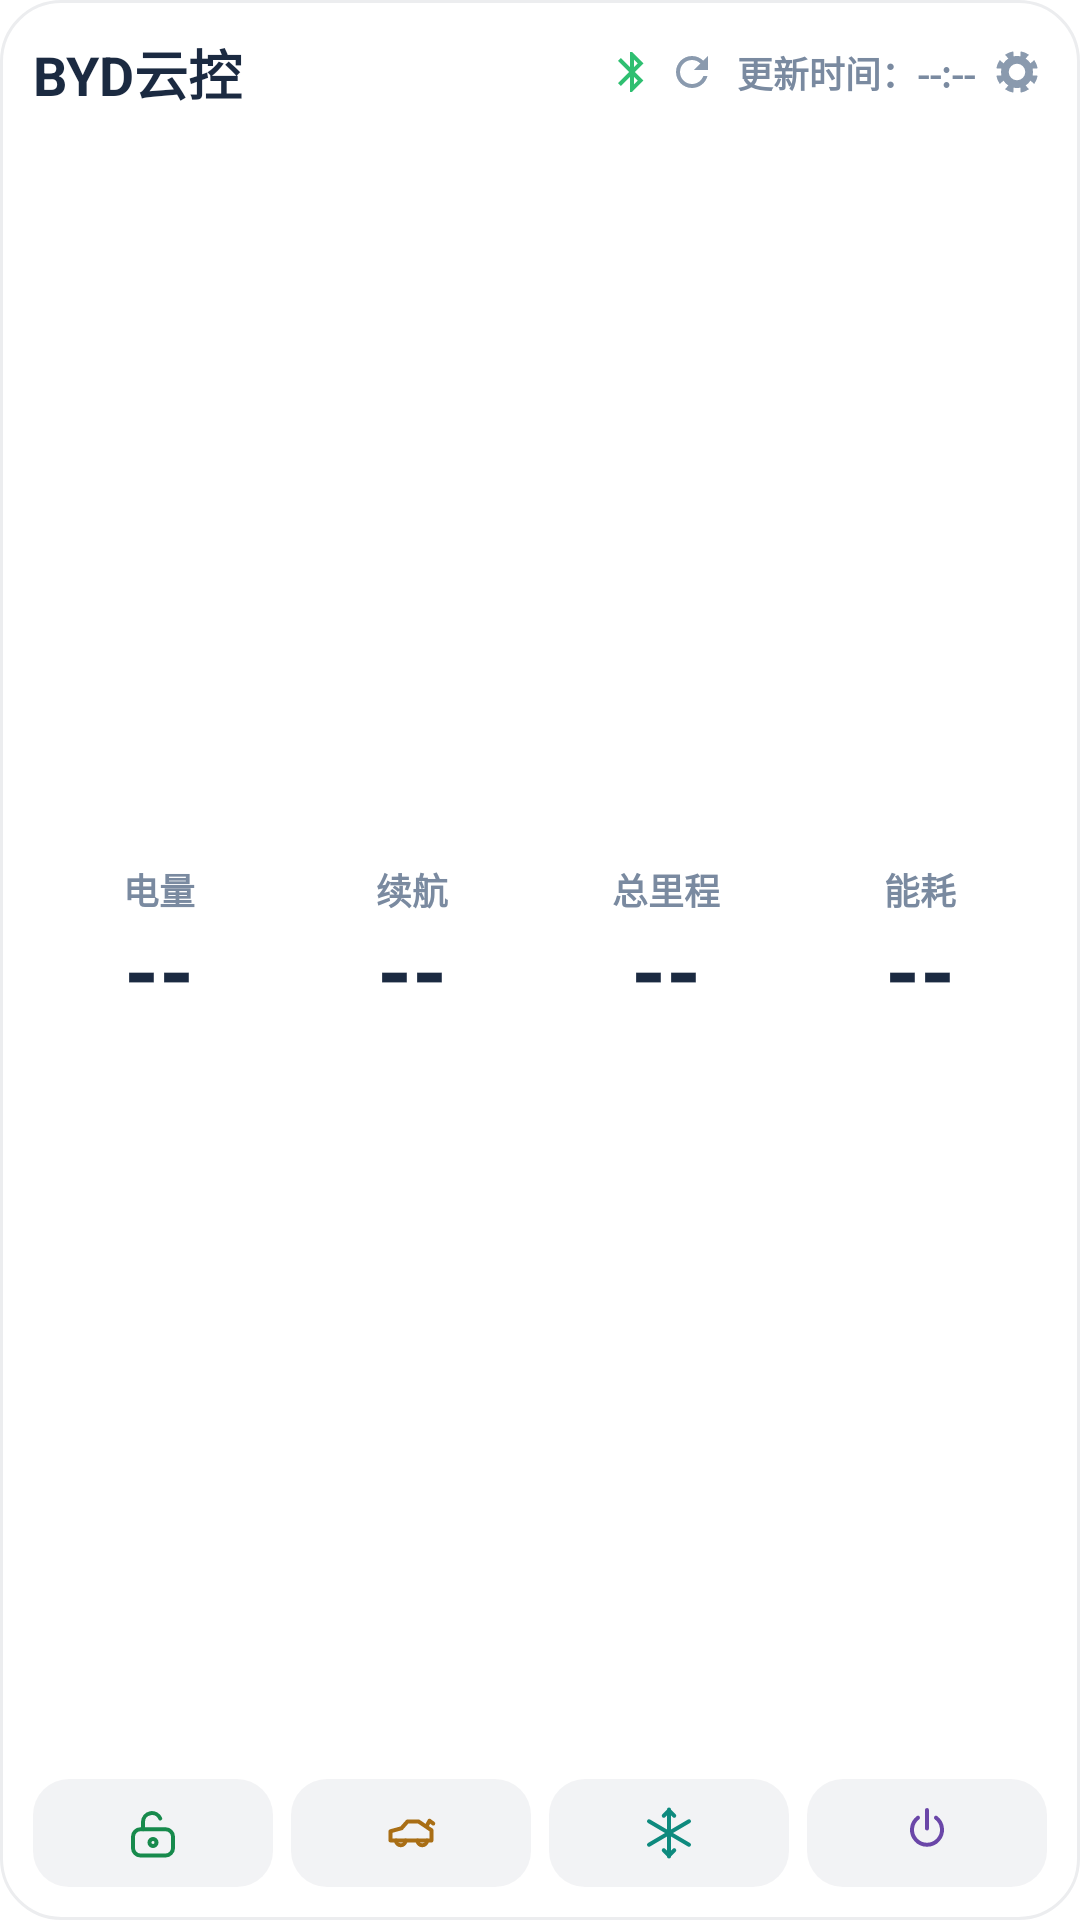

Named icons in this screenshot (1080w x 1920h) and their centers, point (x, y):
off: point (927, 1827)
trunk: point (412, 1833)
unlock: point (153, 1834)
刷新车况（从云端拉取）: point (692, 72)
小组件设置: point (1017, 72)
